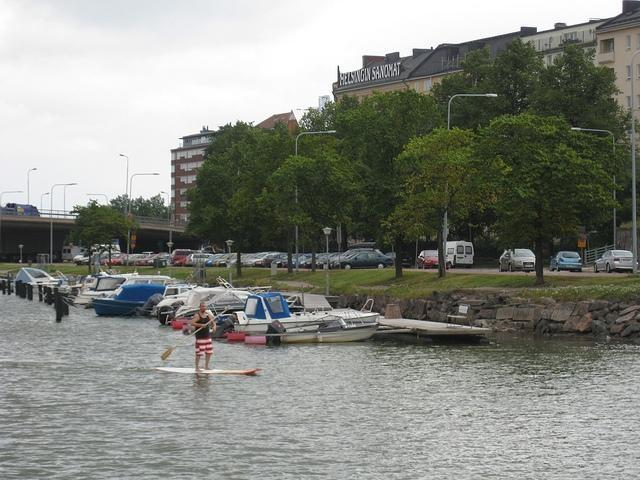car: (335, 250, 393, 270), (593, 249, 639, 274), (498, 249, 536, 273), (548, 250, 582, 273), (416, 250, 454, 270), (170, 250, 198, 266), (318, 252, 344, 269), (282, 253, 308, 268), (305, 253, 327, 269), (264, 254, 285, 268), (217, 253, 237, 266), (270, 255, 288, 268), (254, 259, 265, 267)
truck: (4, 203, 41, 216)
